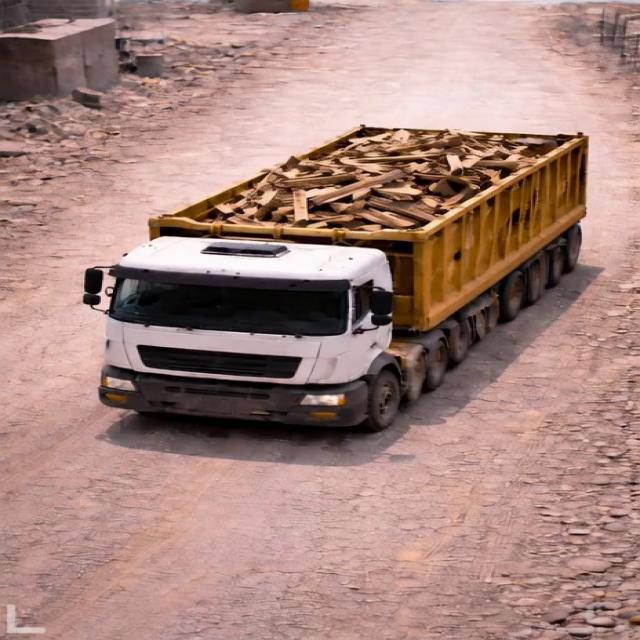trailer: (144, 121, 593, 233)
truck: (78, 94, 619, 420)
